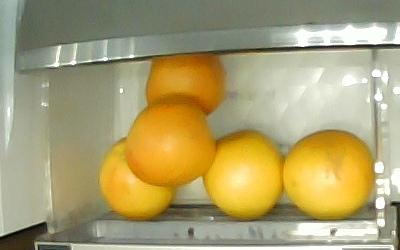grapefruit: (281, 128, 373, 219), (125, 98, 216, 187), (202, 127, 284, 219), (97, 134, 173, 217), (144, 57, 226, 114)
